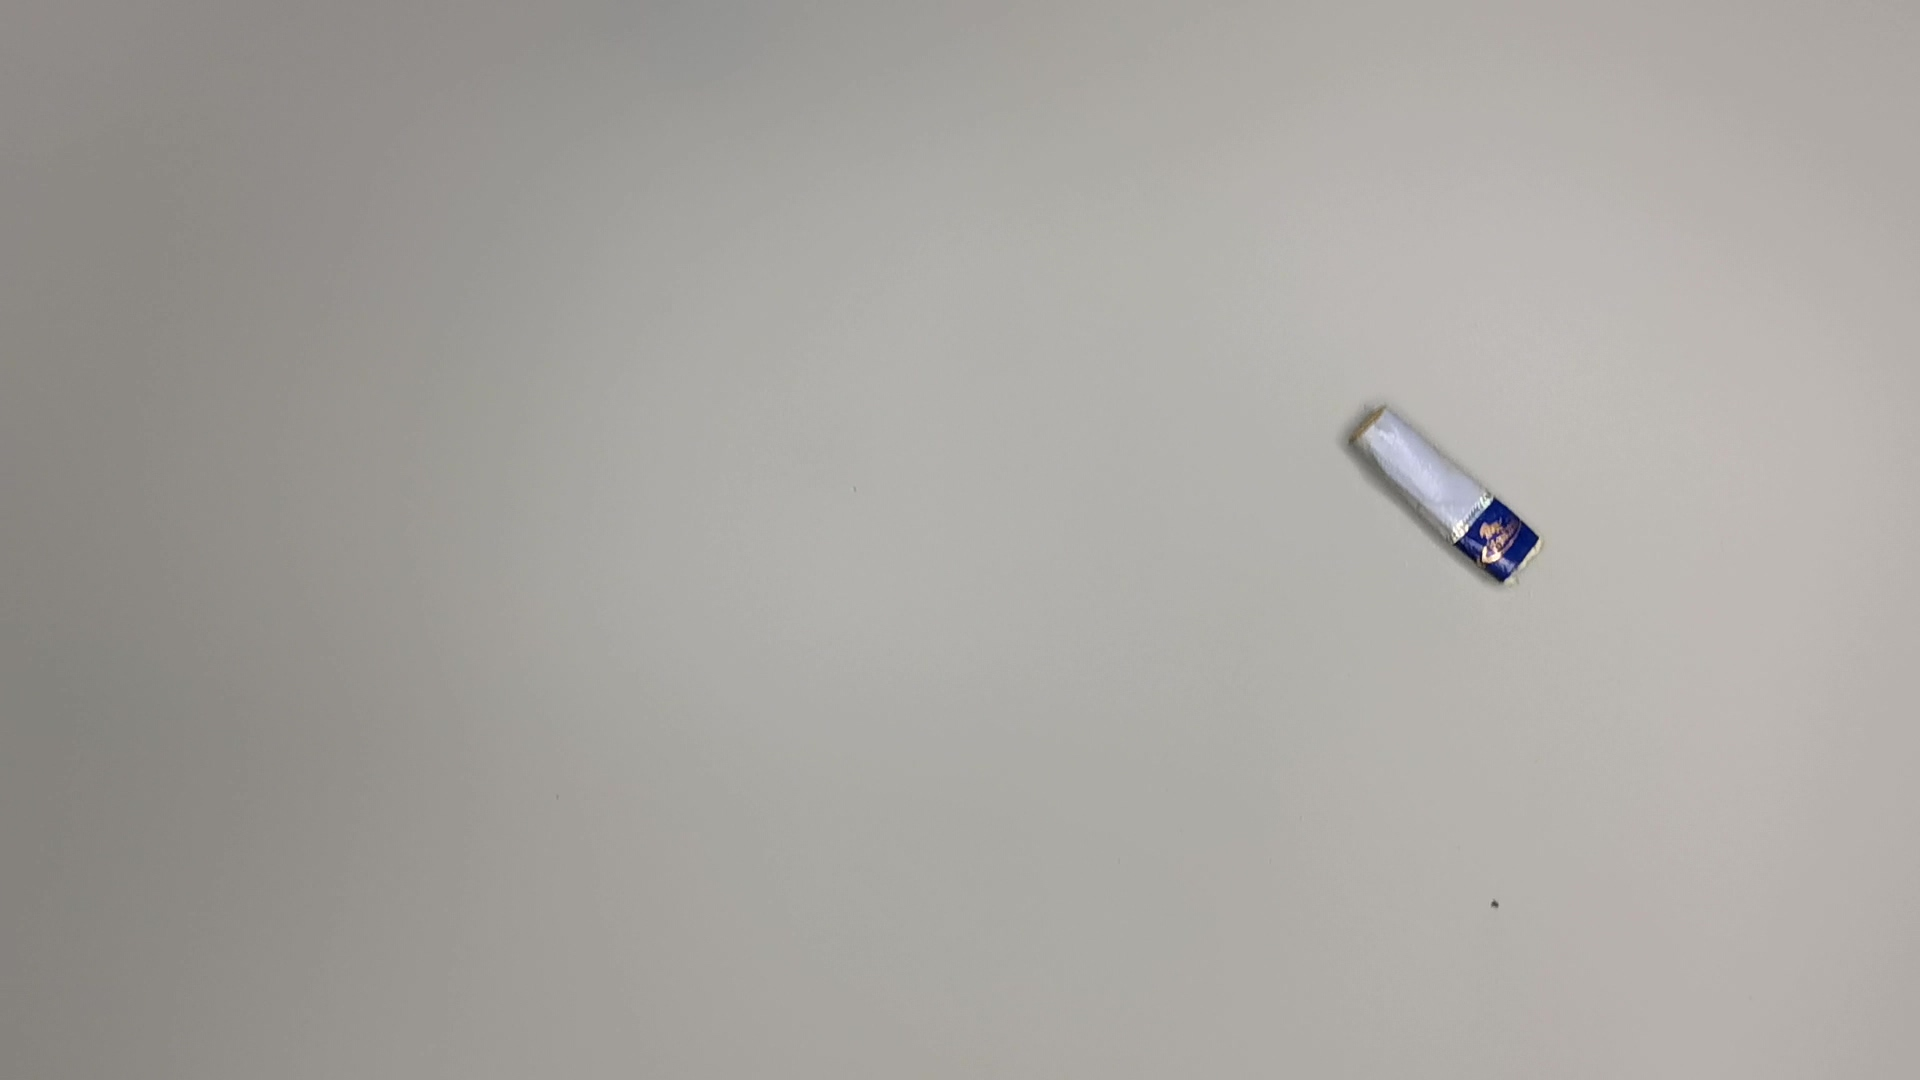cigarette: (1341, 402, 1548, 589)
